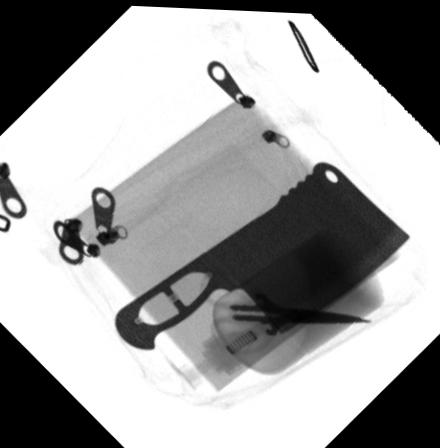Knife: (113, 156, 409, 350)
Scissors: (198, 270, 372, 355)
